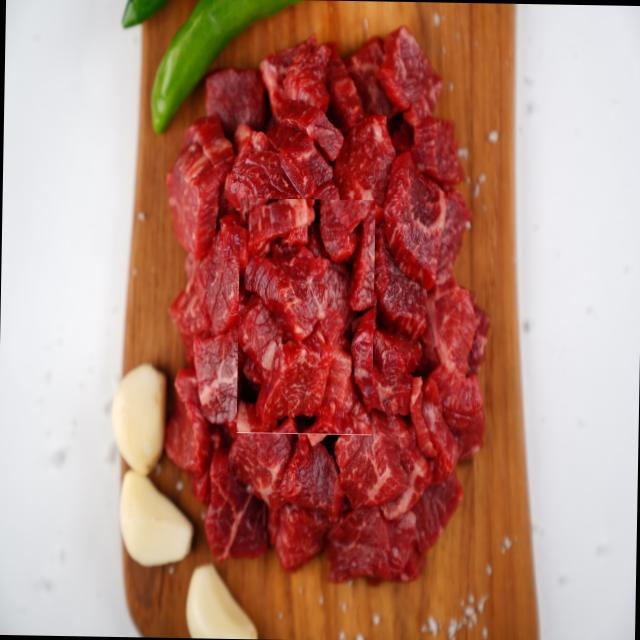beef: (236, 198, 376, 435)
